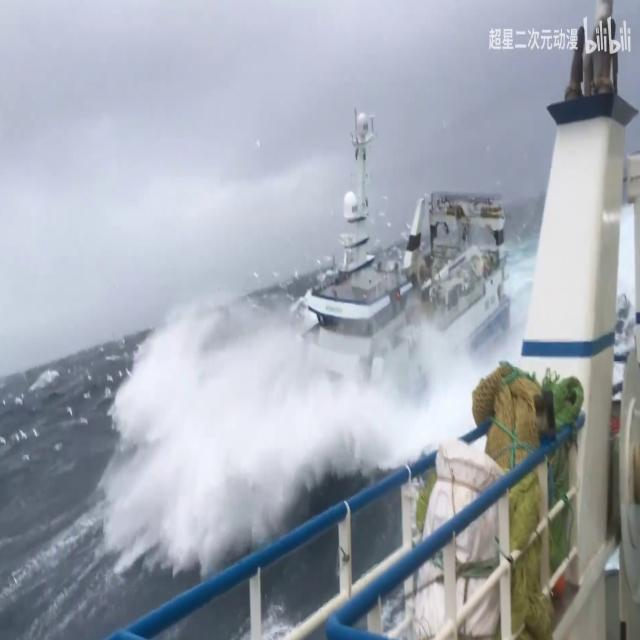houseboat: (255, 106, 506, 445)
